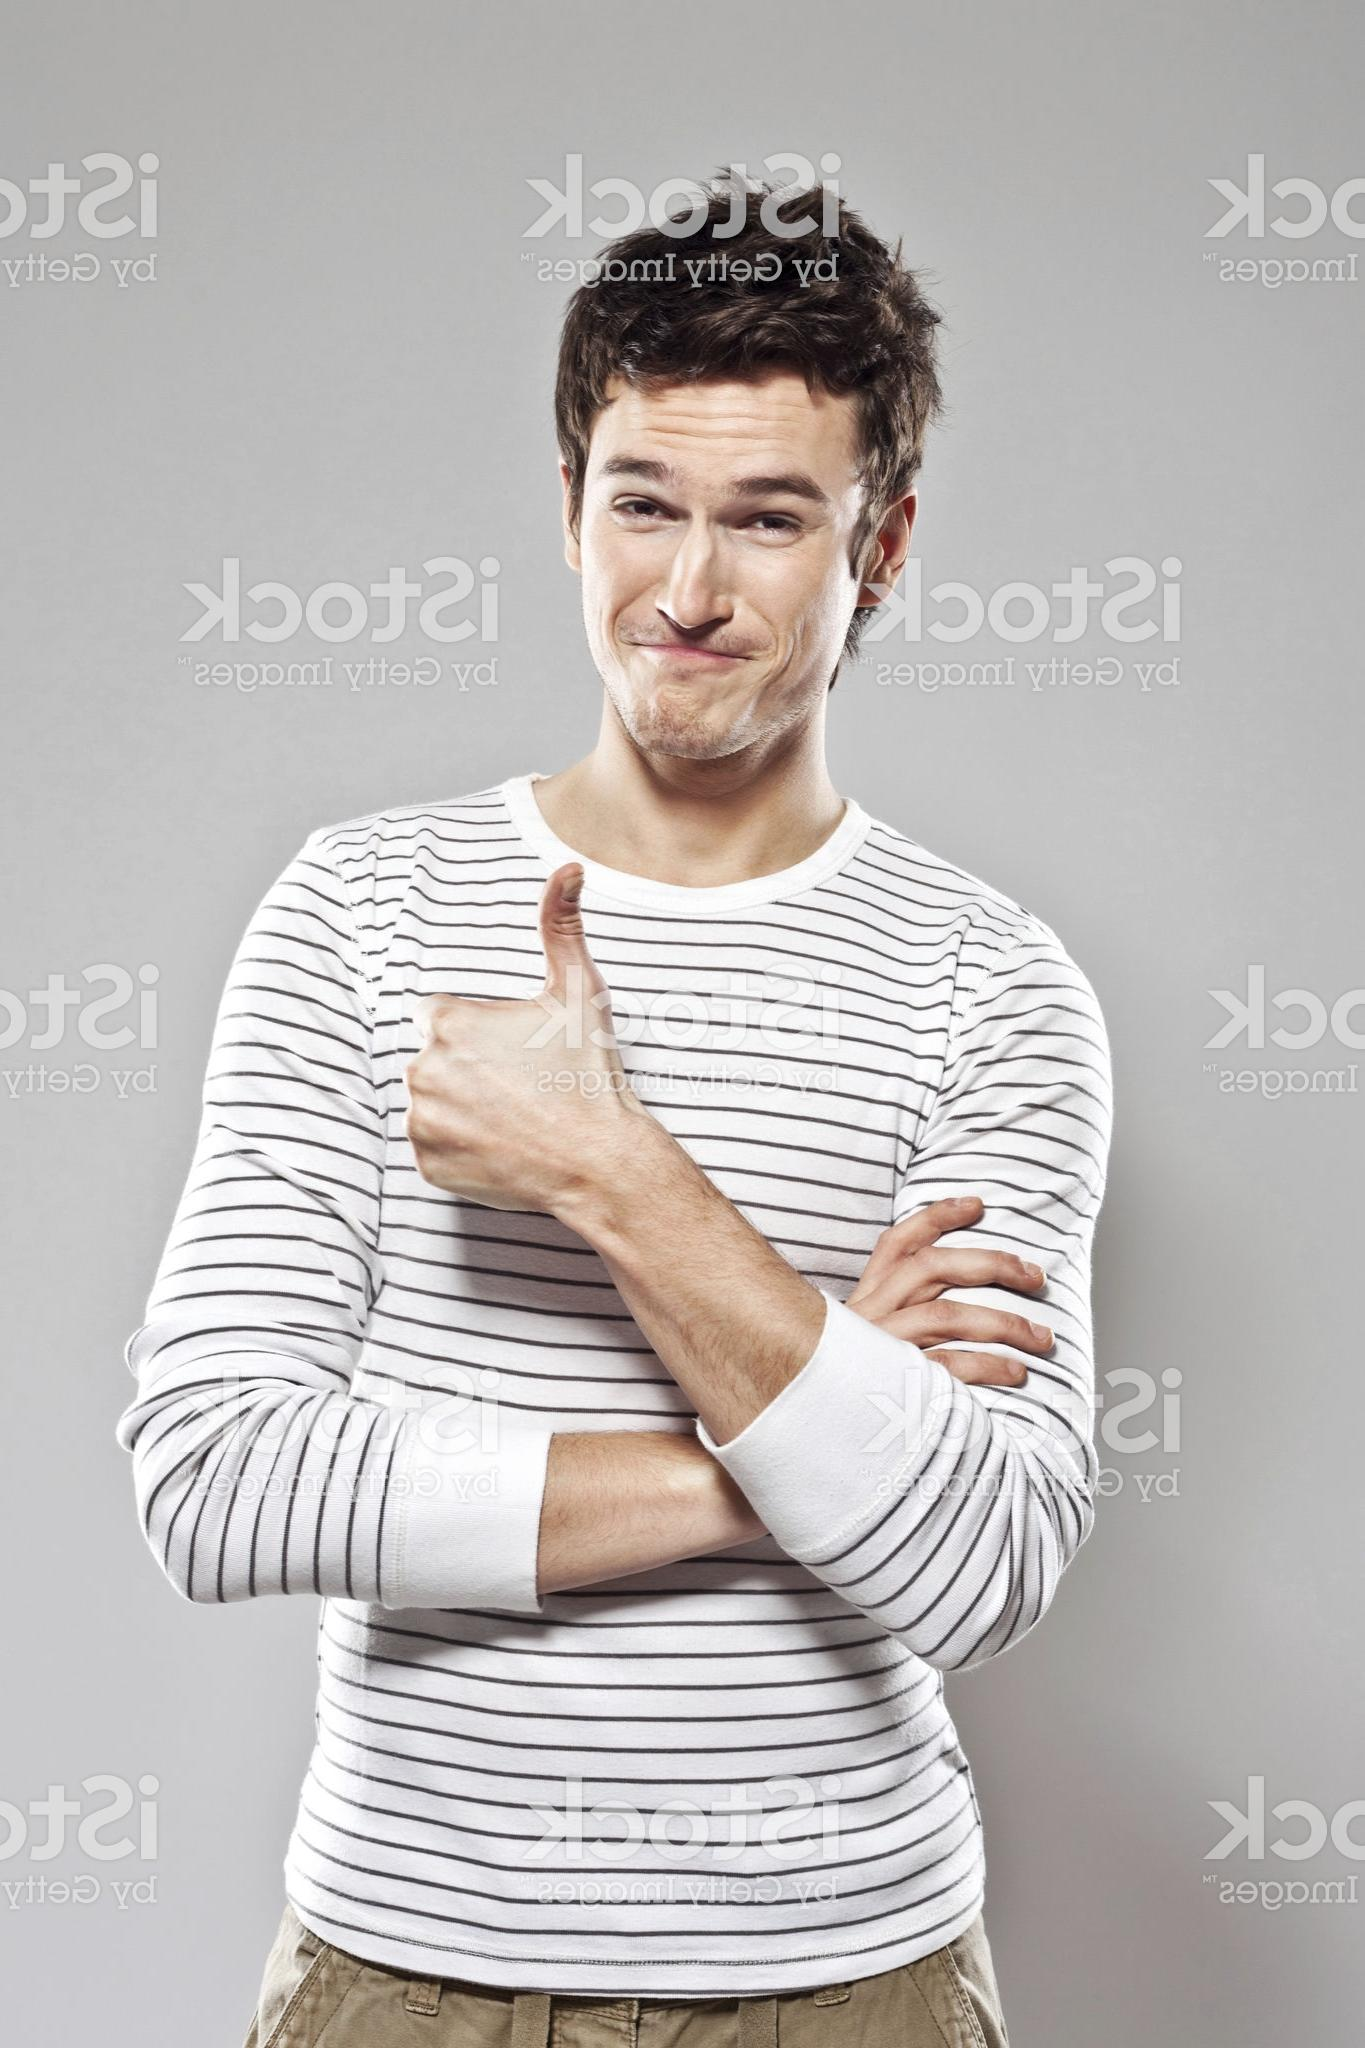thumbsup: (401, 862, 591, 1194)
